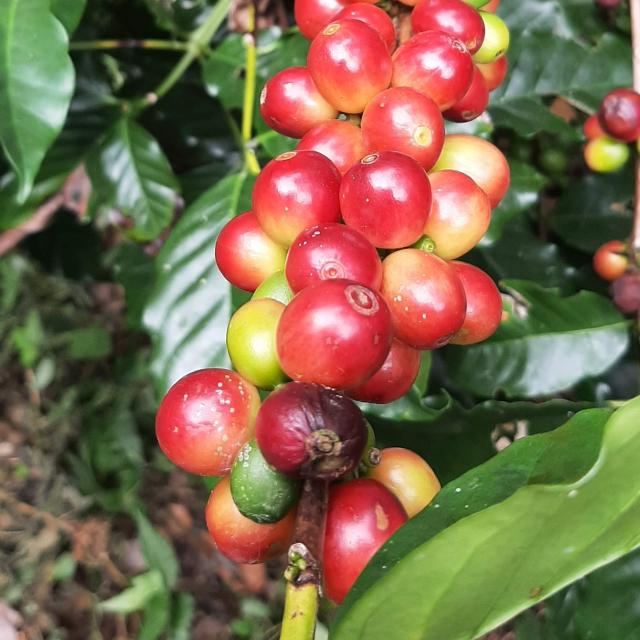green: (230, 440, 301, 525), (251, 270, 294, 305)
red: (276, 279, 393, 390), (255, 382, 367, 481), (324, 479, 408, 605), (340, 150, 433, 249), (285, 223, 383, 293), (347, 339, 422, 404), (449, 260, 503, 345), (412, 0, 486, 54), (333, 2, 397, 51), (443, 64, 490, 122), (599, 87, 640, 142)
yellow: (156, 369, 260, 477), (252, 149, 342, 246), (205, 477, 297, 565), (308, 18, 393, 113), (361, 87, 445, 170), (391, 29, 474, 110), (424, 169, 492, 260), (431, 134, 511, 208), (215, 210, 287, 292), (227, 298, 290, 390), (260, 66, 339, 138), (368, 449, 441, 518), (296, 119, 367, 175), (585, 135, 631, 172)
